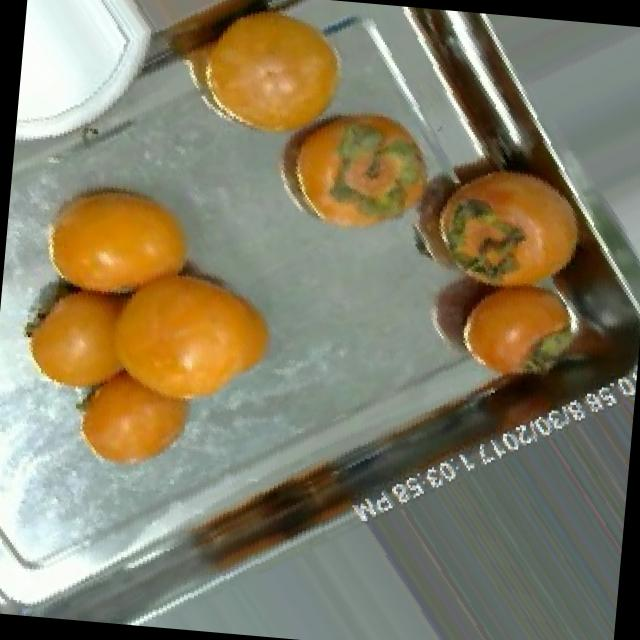Fruit: (87, 237, 296, 431), (252, 74, 462, 258), (152, 0, 381, 167), (24, 153, 215, 324), (57, 328, 212, 488)
